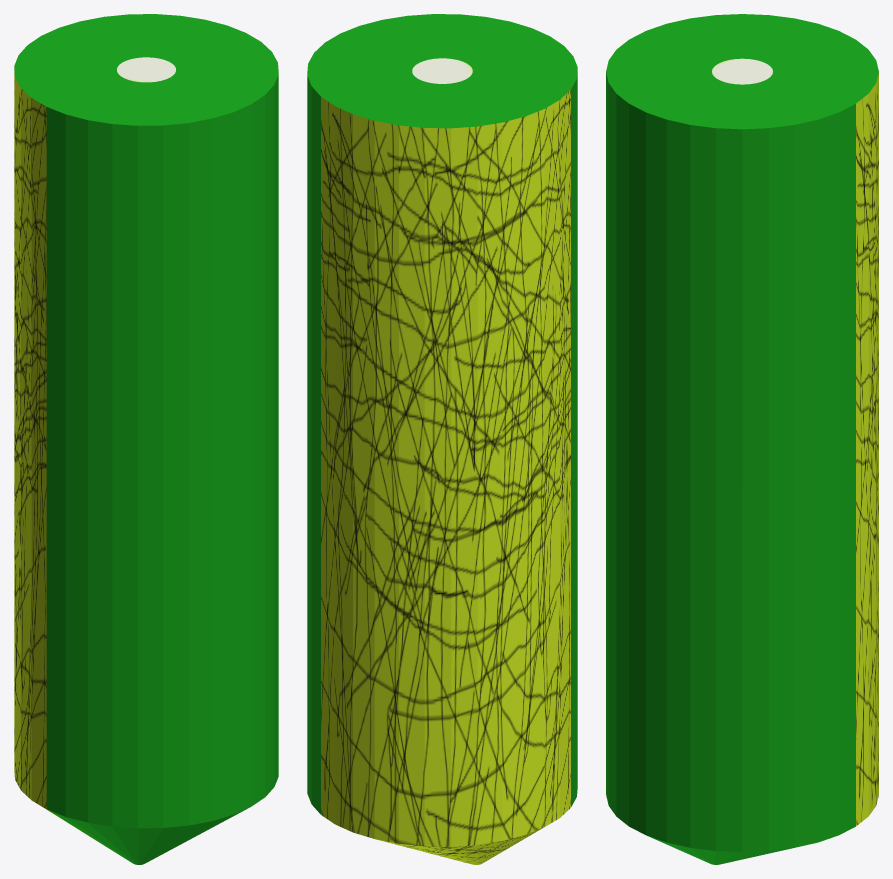
The model's file is Maiz.fbx.
3 renders of one model, left to right at view 1: azimuth 30°, elevation 25°; view 2: azimuth 150°, elevation 25°; view 3: azimuth 270°, elevation 25°, orthographic. The views are drawn at different scales.
Parts seen in each view (by area): view 1: Cylinder; view 2: Cylinder; view 3: Cylinder.
Boxes of the visible parts, x1,y1,x2,y2 form: Cylinder: (14,14,278,864); Cylinder: (307,14,577,864); Cylinder: (606,14,878,864).
Bounding box in the file's own units: 31.87 × 103 × 31.87.
